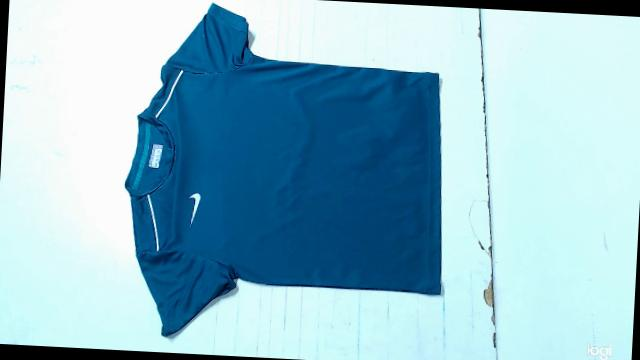new-garment: (125, 3, 441, 336)
